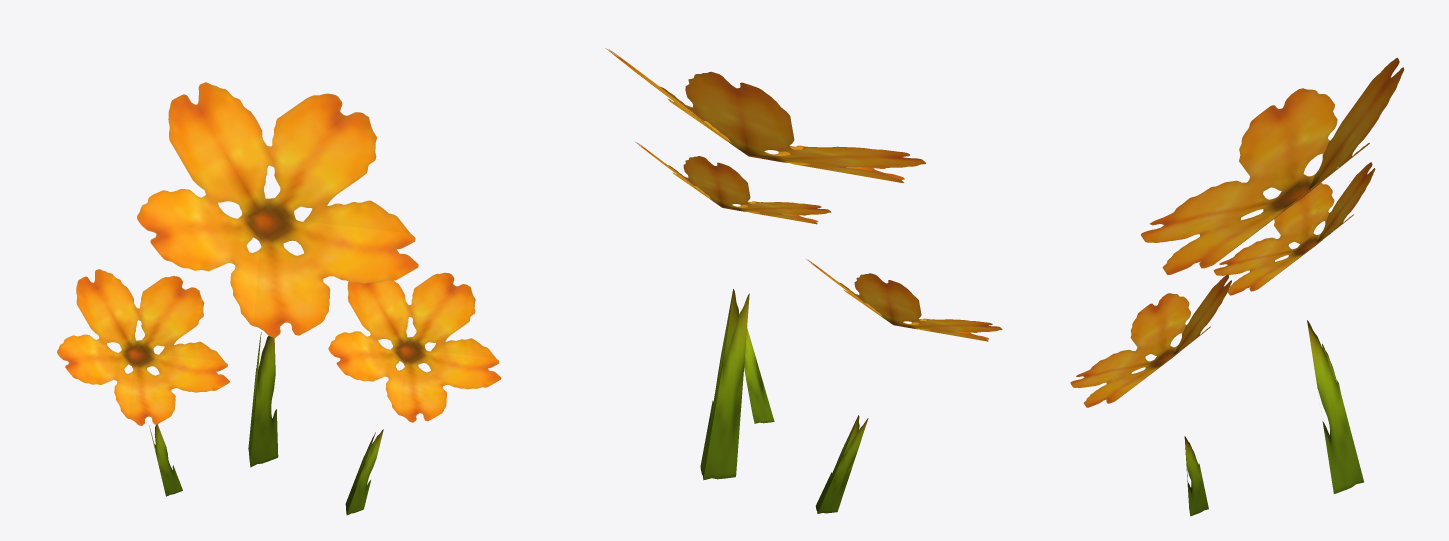
File: hua02.FBX
3 renders of one model, left to right at view 1: azimuth 30°, elevation 25°; view 2: azimuth 150°, elevation 25°; view 3: azimuth 270°, elevation 25°, orthographic. The views are drawn at different scales.
Parts seen in each view (by area): view 1: 对象001; view 2: 对象001; view 3: 对象001.
Boxes of the visible parts, x1,y1,x2,y2 form: 对象001: (57, 82, 501, 515); 对象001: (605, 48, 1002, 513); 对象001: (1070, 57, 1404, 516).
Size of the model in its own units: 12.19 by 12.08 by 8.96.
